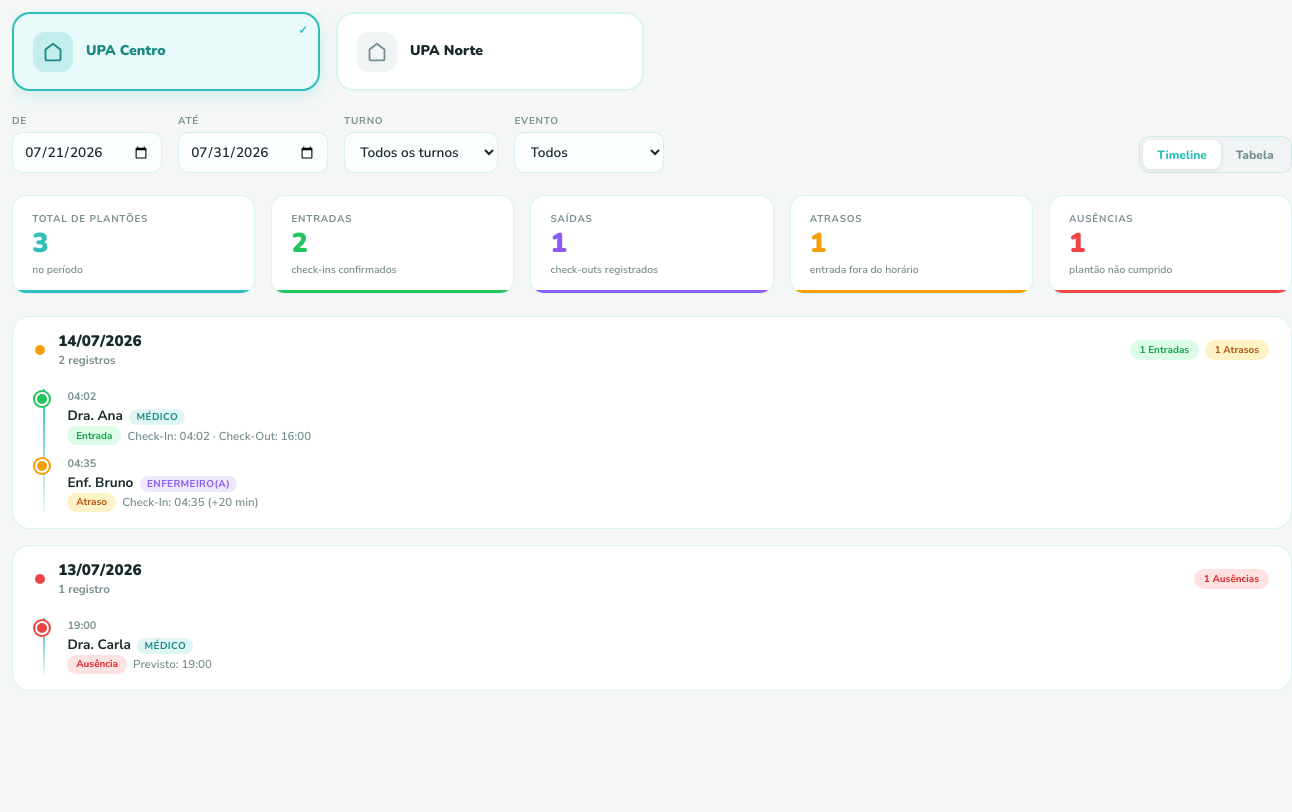
Test: <PrefeituraHistorico /> › filtro de evento "Atrasos" reduz a lista aos itens type=late
Expected: the text "Dra. Ana" is shown, [67,406,123,425]
Select "Atrasos" in the dropdown with id "hist-evento" at (589, 153), box [514,132,664,173]
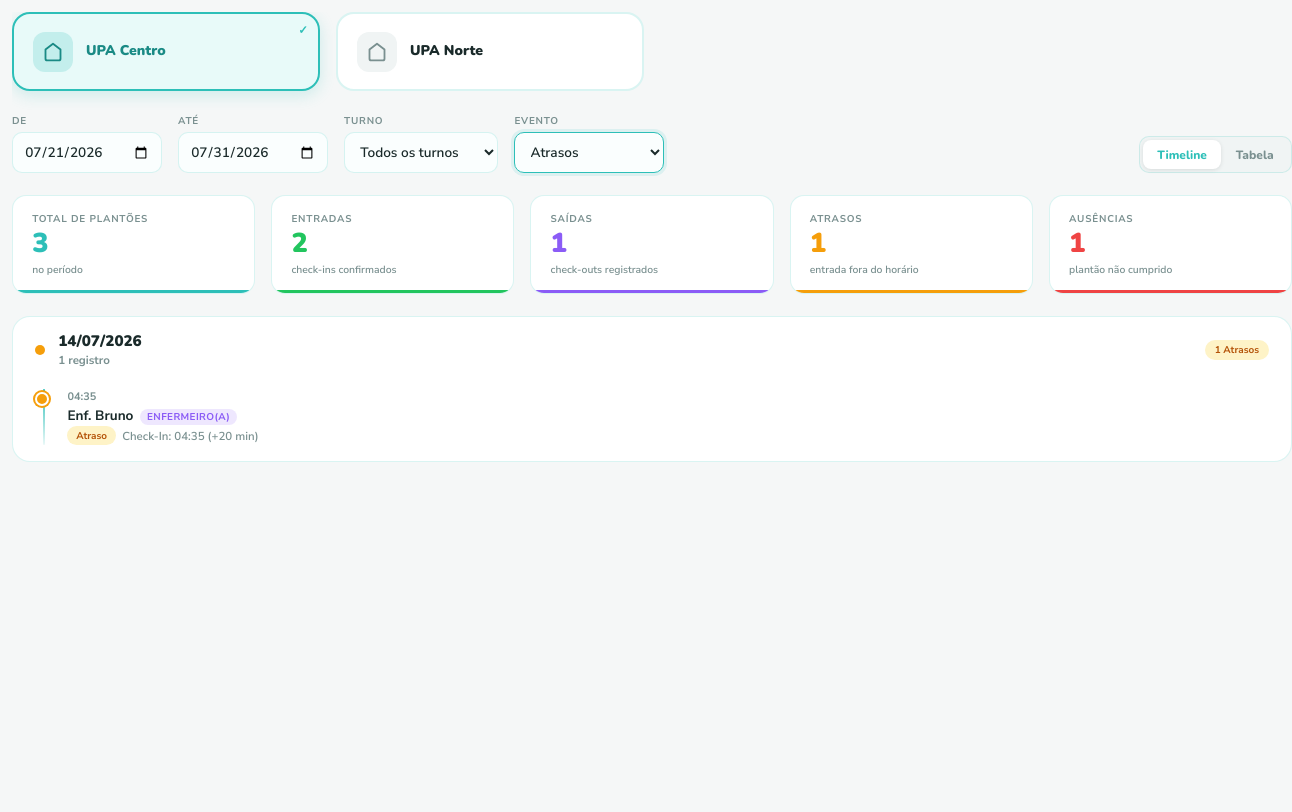
Expected: the text "Enf. Bruno" is shown, [67,406,134,425]
Result: the text "Dra. Ana" is gone
